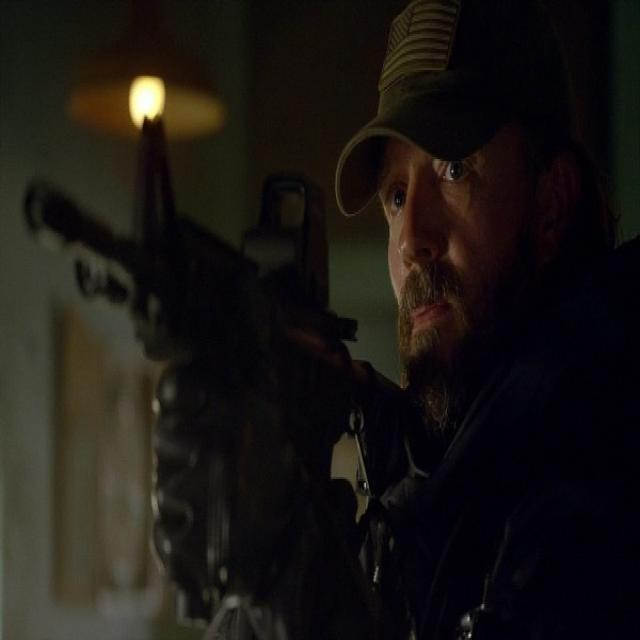rifle: (23, 100, 440, 626)
